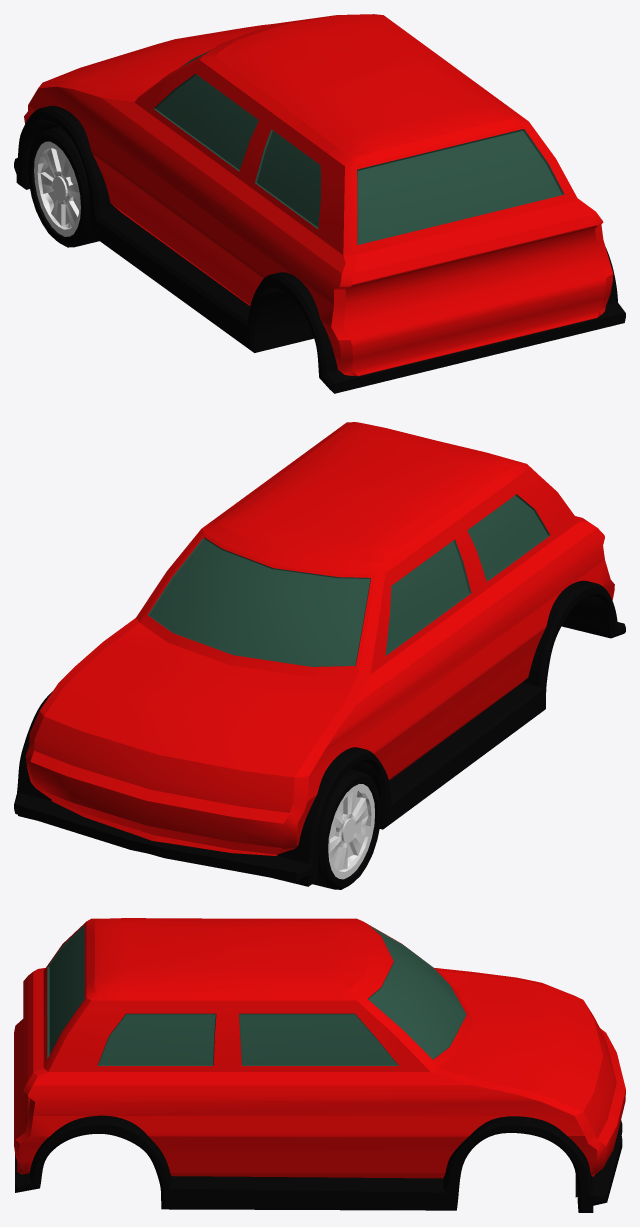
Rendered from SUV_1.FBX.
3 renders of one model, top to bottom at view 1: azimuth 30°, elevation 25°; view 2: azimuth 150°, elevation 25°; view 3: azimuth 270°, elevation 25°, orthographic. The views are drawn at different scales.
Visible parts, largest first — view 1: CarBody, FrontRight; view 2: CarBody, FrontRight; view 3: CarBody.
Part boxes in pixels (bbox=[...]): CarBody: bbox=[14, 14, 625, 393]; FrontRight: bbox=[28, 126, 99, 247]; CarBody: bbox=[14, 422, 625, 886]; FrontRight: bbox=[312, 769, 381, 889]; CarBody: bbox=[14, 918, 625, 1212].
Bounding box in the file's own units: 97.83 × 78.48 × 191.
2 materials, 2 textured.
